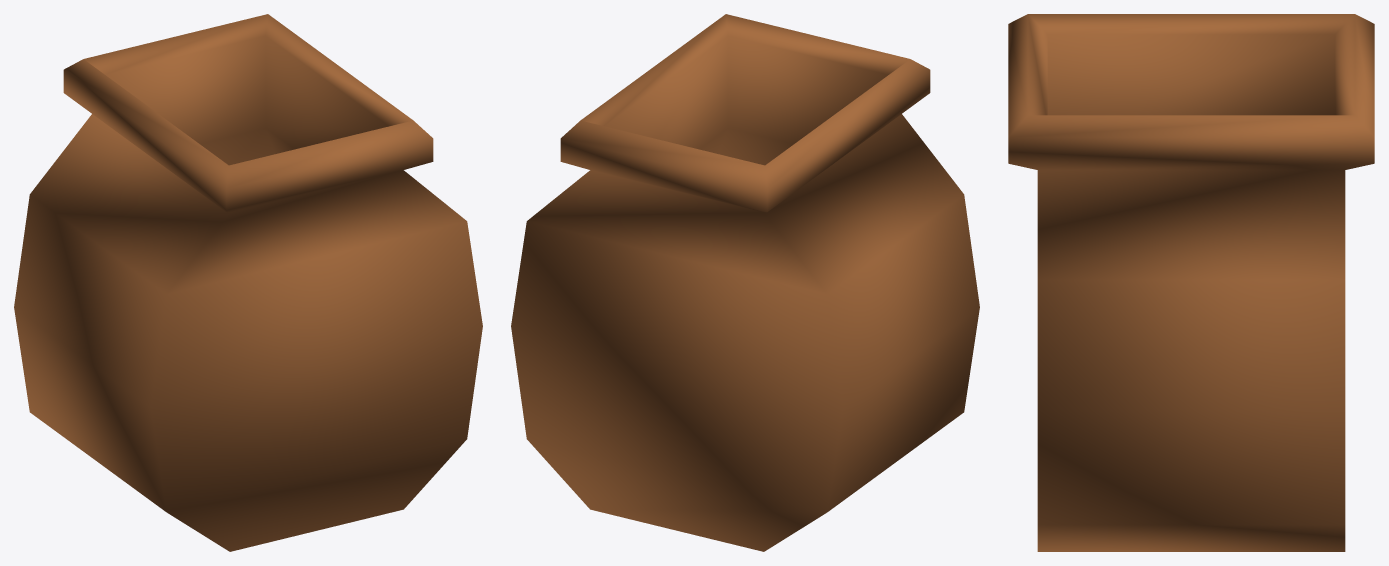
File: rpgpp_ag_vase_02.fbx
3 renders of one model, left to right at view 1: azimuth 30°, elevation 25°; view 2: azimuth 150°, elevation 25°; view 3: azimuth 270°, elevation 25°, orthographic. The views are drawn at different scales.
Visible parts, largest first — view 1: rpgpp_ag_vase_02; view 2: rpgpp_ag_vase_02; view 3: rpgpp_ag_vase_02.
Boxes of the visible parts, <box> form: rpgpp_ag_vase_02: <box>14,14,482,551</box>; rpgpp_ag_vase_02: <box>511,14,979,551</box>; rpgpp_ag_vase_02: <box>1008,14,1374,551</box>.
Size of the model in its own units: 0.3577 by 0.4023 by 0.3041.
